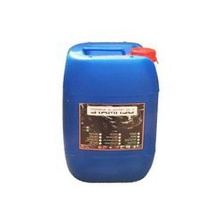cleaning_solution: (60, 31, 162, 187)
